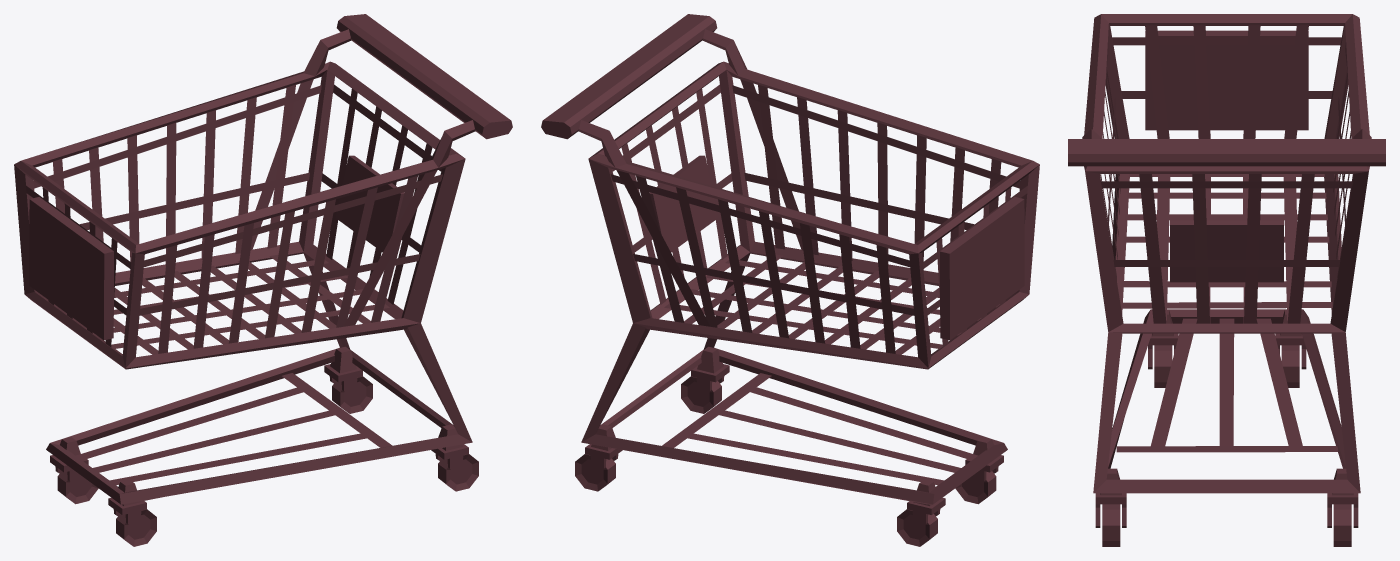
The model's file is shopping-trolley-seat-a.fbx.
The picture shows the model from 3 angles, left to right: view 1: azimuth 30°, elevation 25°; view 2: azimuth 150°, elevation 25°; view 3: azimuth 270°, elevation 25°; orthographic projection. The views are drawn at different scales.
Parts seen in each view (by area): view 1: shopping-trolley-seat-a; view 2: shopping-trolley-seat-a; view 3: shopping-trolley-seat-a.
Part boxes in pixels (left/top/right/bottom): shopping-trolley-seat-a: left=14, top=14, right=512, bottom=546; shopping-trolley-seat-a: left=541, top=14, right=1039, bottom=546; shopping-trolley-seat-a: left=1068, top=14, right=1385, bottom=546.
Size of the model in its own units: 1.15 by 1.1 by 0.7741.
